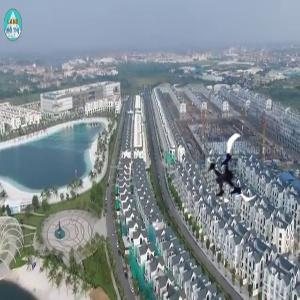drone: (198, 142, 267, 211)
